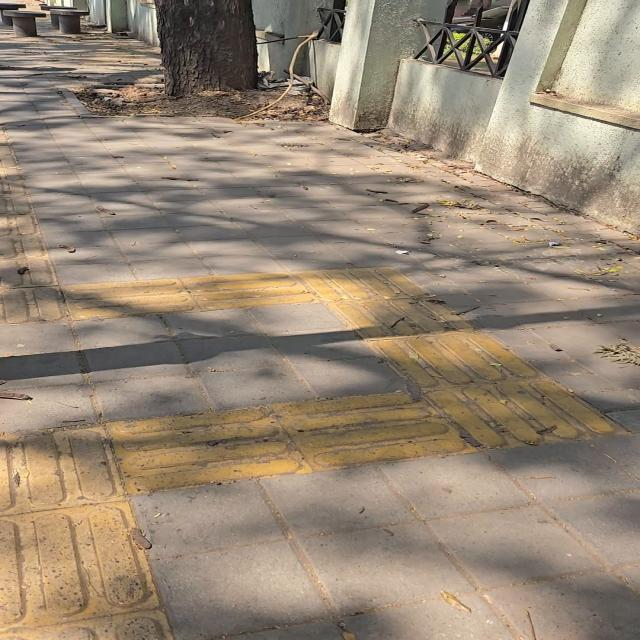obstacle: (156, 0, 257, 96)
